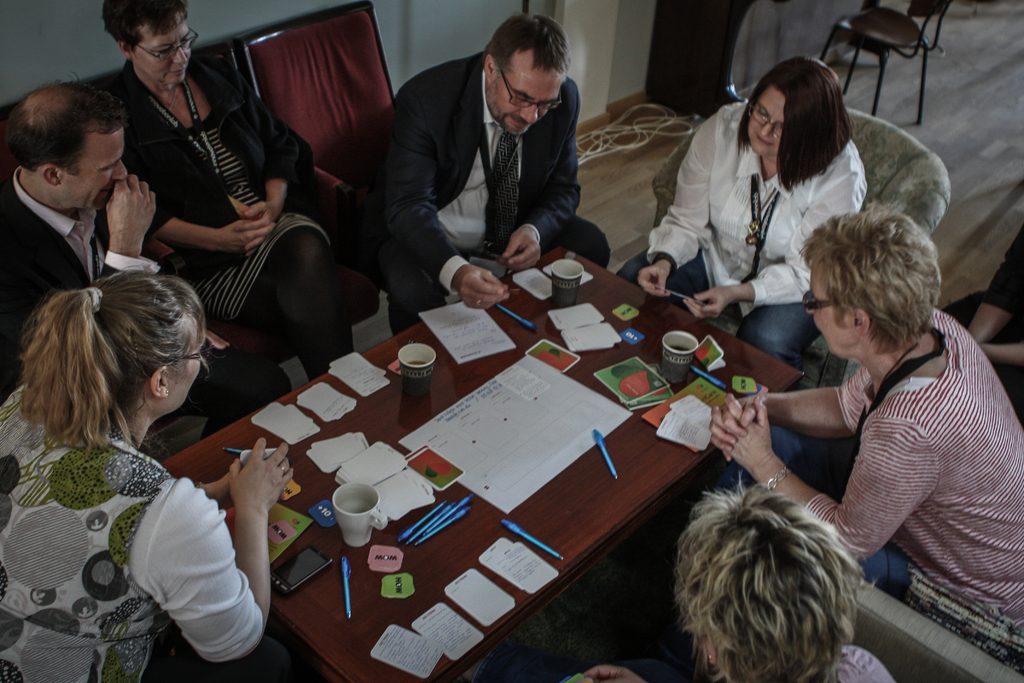Human_hand: (227, 437, 294, 512), (706, 393, 768, 463), (106, 173, 156, 236), (452, 262, 509, 309), (237, 199, 281, 257), (218, 218, 280, 252), (503, 222, 541, 270), (684, 284, 733, 318), (634, 258, 669, 295), (580, 664, 646, 682), (206, 324, 231, 352)
